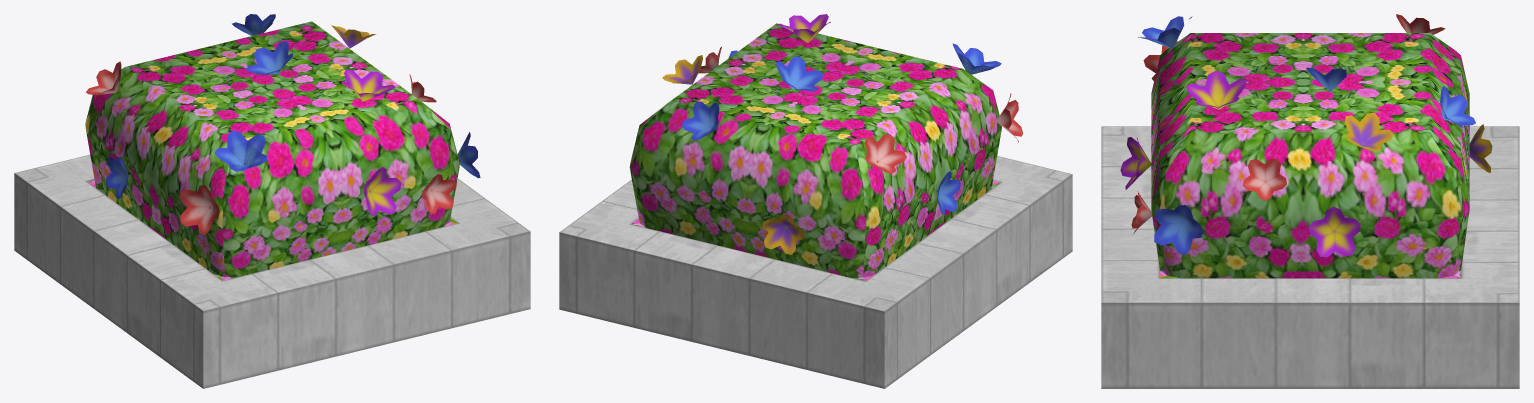
File: VEG0310039.fbx
3 renders of one model, left to right at view 1: azimuth 30°, elevation 25°; view 2: azimuth 150°, elevation 25°; view 3: azimuth 270°, elevation 25°, orthographic. The views are drawn at different scales.
Parts seen in each view (by area): view 1: smVEG0310039; view 2: smVEG0310039; view 3: smVEG0310039.
Part boxes in pixels (x1,y1,x2,y2): smVEG0310039: [14, 14, 530, 388]; smVEG0310039: [559, 14, 1072, 388]; smVEG0310039: [1101, 14, 1519, 388].
Size of the model in its own units: 127 by 82.5 by 127.
Materials: 1 (1 with a texture image).
